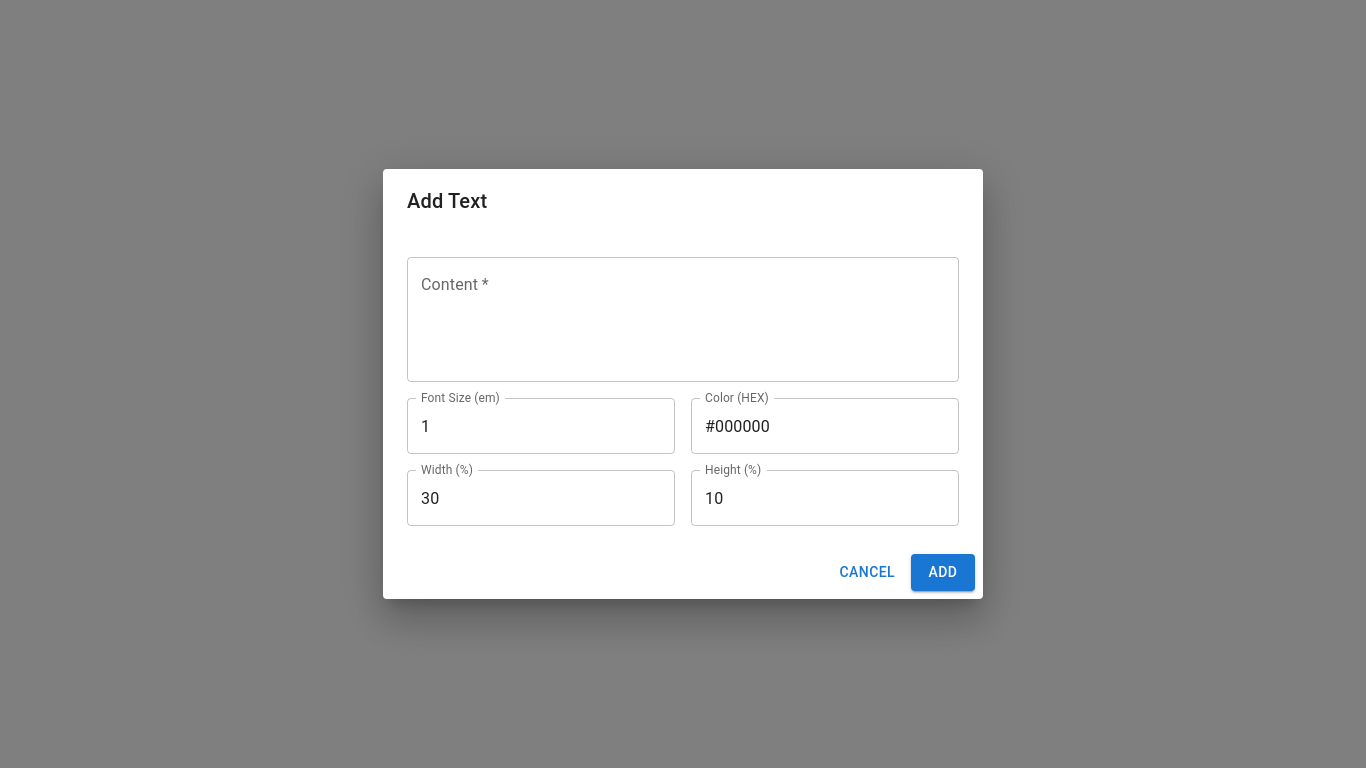
AddTextModal Component › displays error for invalid HEX color code
Type "Sample Text" into the text box with test id "content-input".
click(683, 320); type("Sample Text")  # box left=421, top=274, right=945, bottom=366
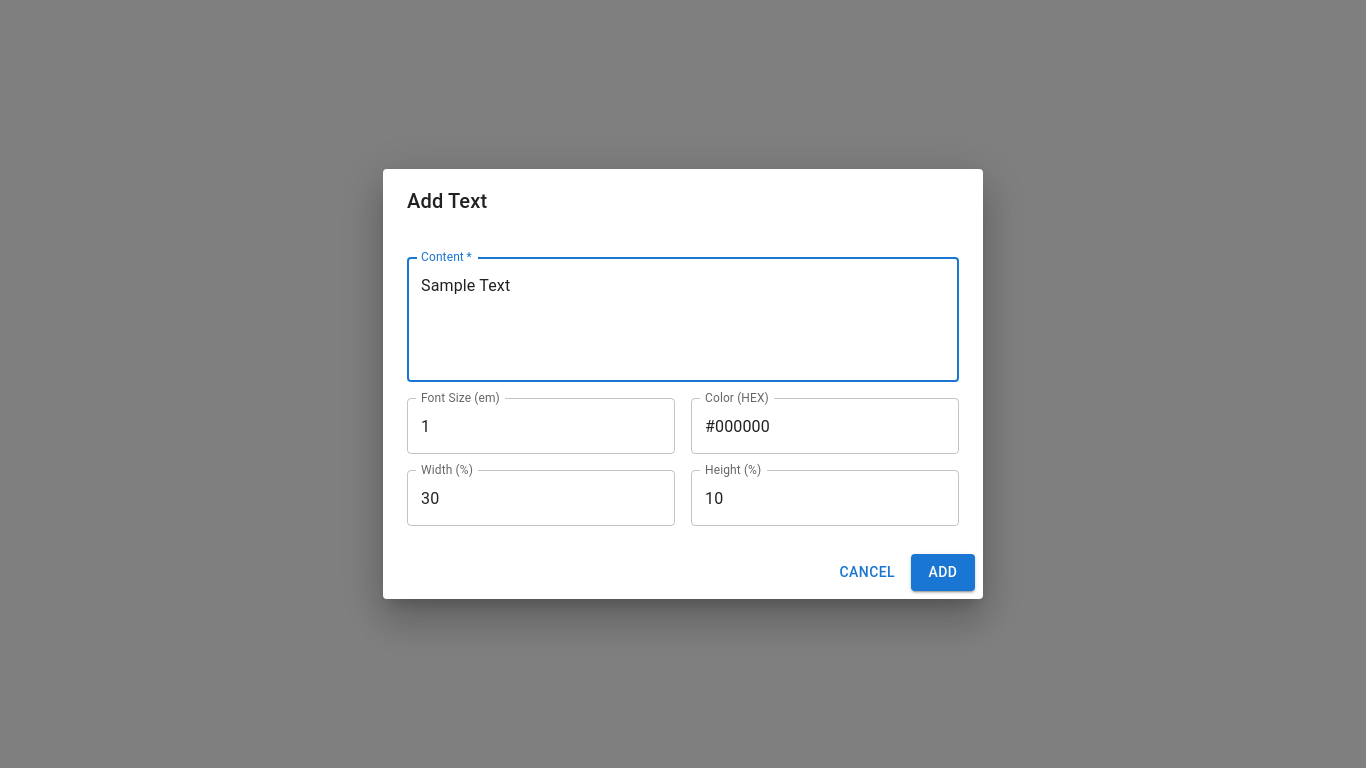
Type "123456" into the field with test id "color-input".
click(825, 426); type("123456")  # box left=691, top=398, right=959, bottom=454
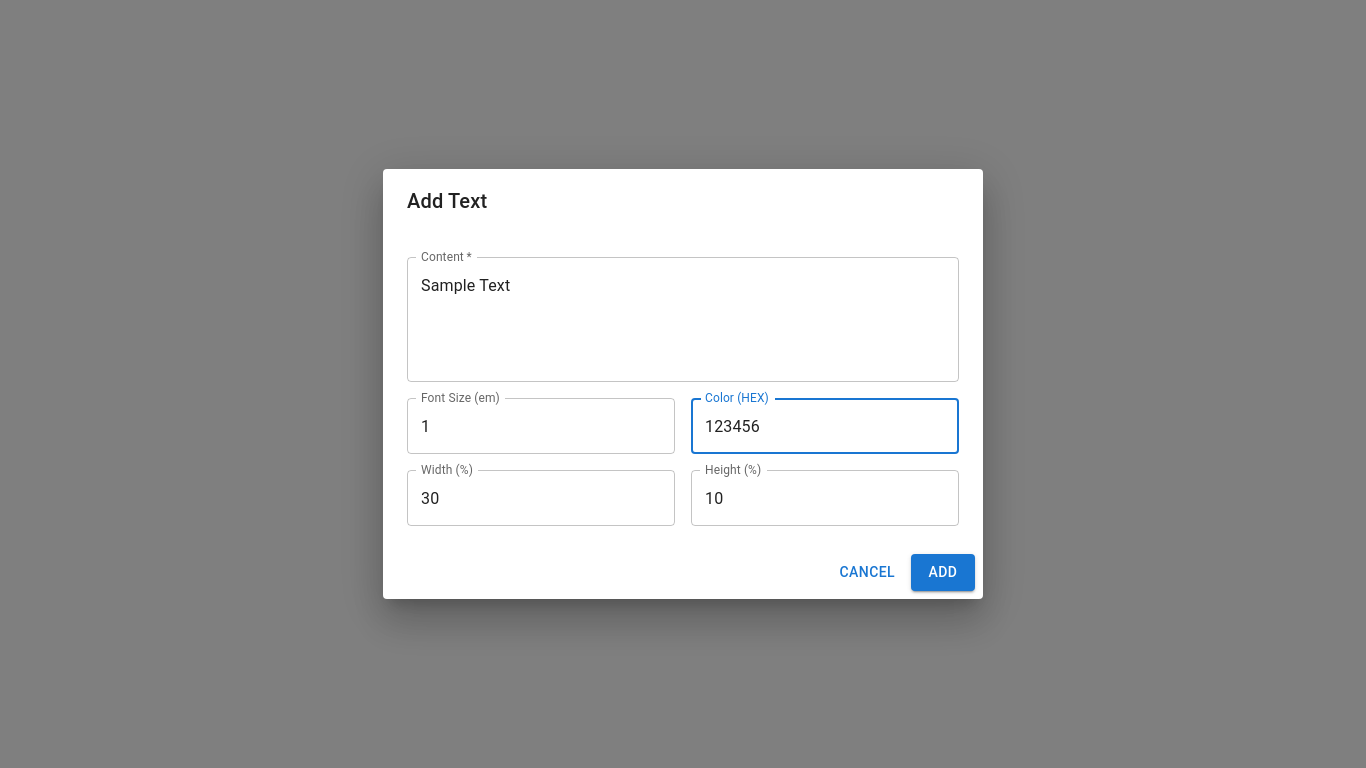
Click the button "Add".
click(943, 573)  # box left=911, top=554, right=975, bottom=591
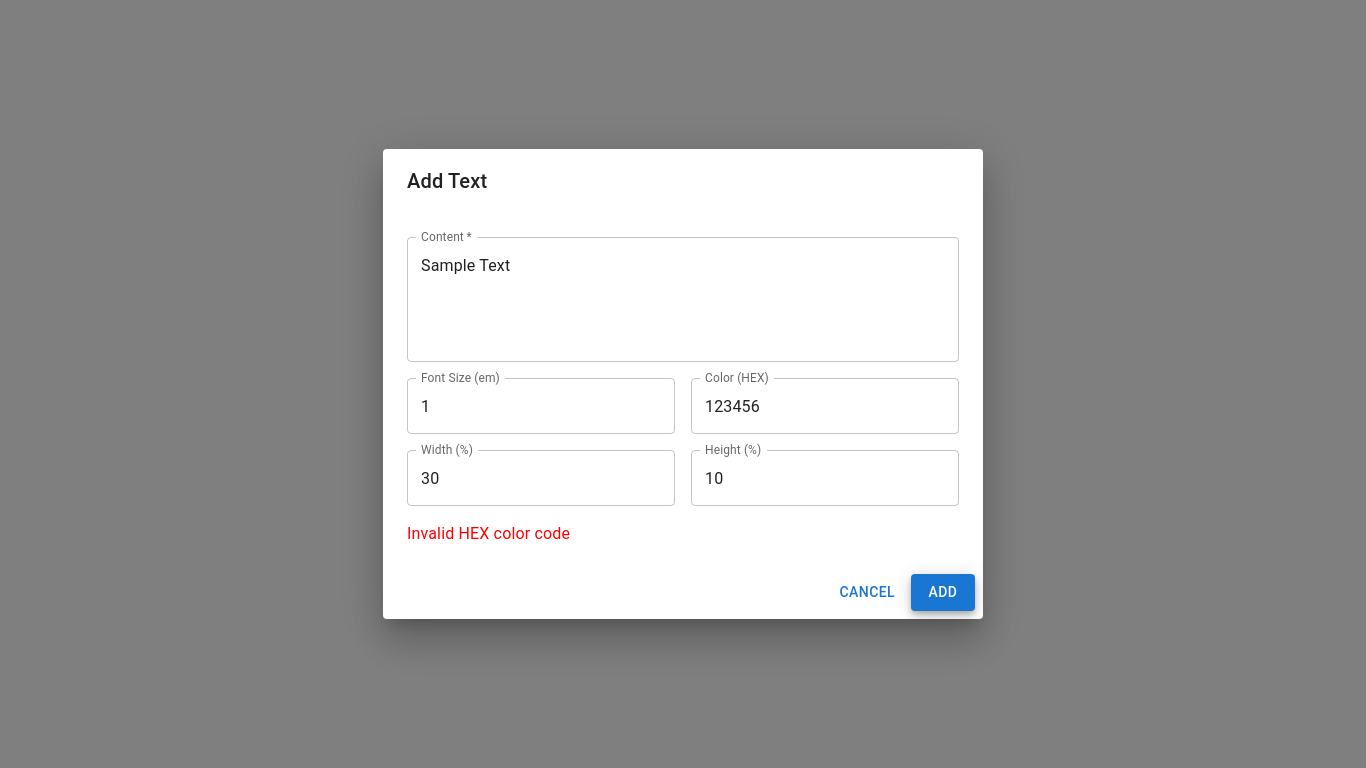
Expected: the text "Invalid HEX color code" is shown, left=407, top=524, right=570, bottom=543
